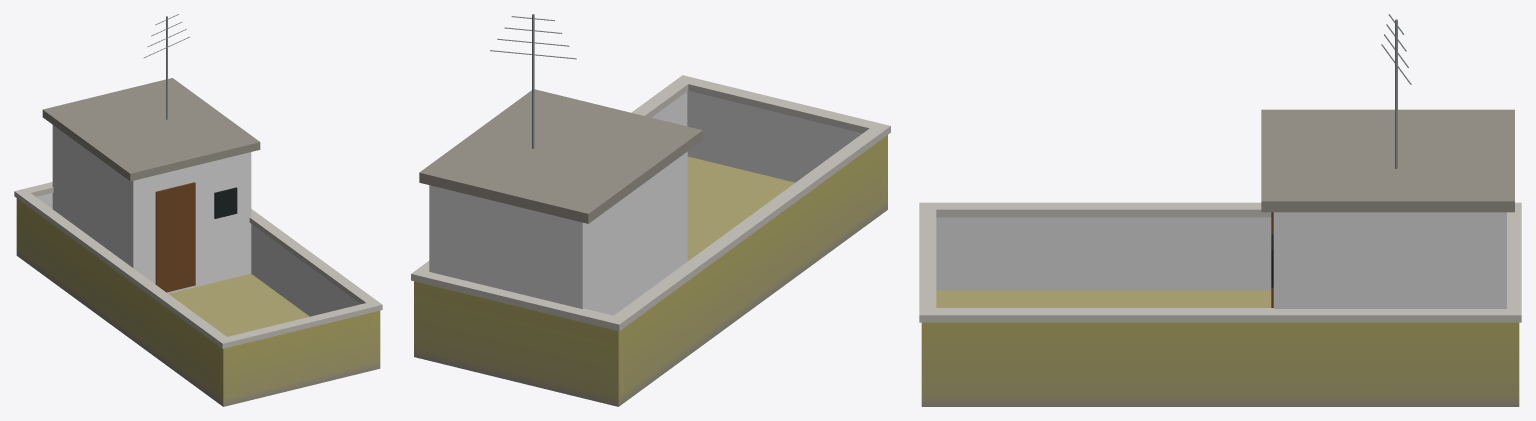
File: mai_tum_32.glb
3 views of the same model, side by side, from view 1: azimuth 30°, elevation 25°; view 2: azimuth 150°, elevation 25°; view 3: azimuth 270°, elevation 25° (orthographic). The views are drawn at different scales.
Parts seen in each view (by area): view 1: mai_tum_32; view 2: mai_tum_32; view 3: mai_tum_32.
Boxes of the visible parts, box(x1,y1,x2,y2) form: mai_tum_32: box(14, 14, 382, 406); mai_tum_32: box(411, 14, 890, 406); mai_tum_32: box(919, 14, 1521, 406).
Size of the model in its own units: 3.26 by 4.75 by 7.36.
